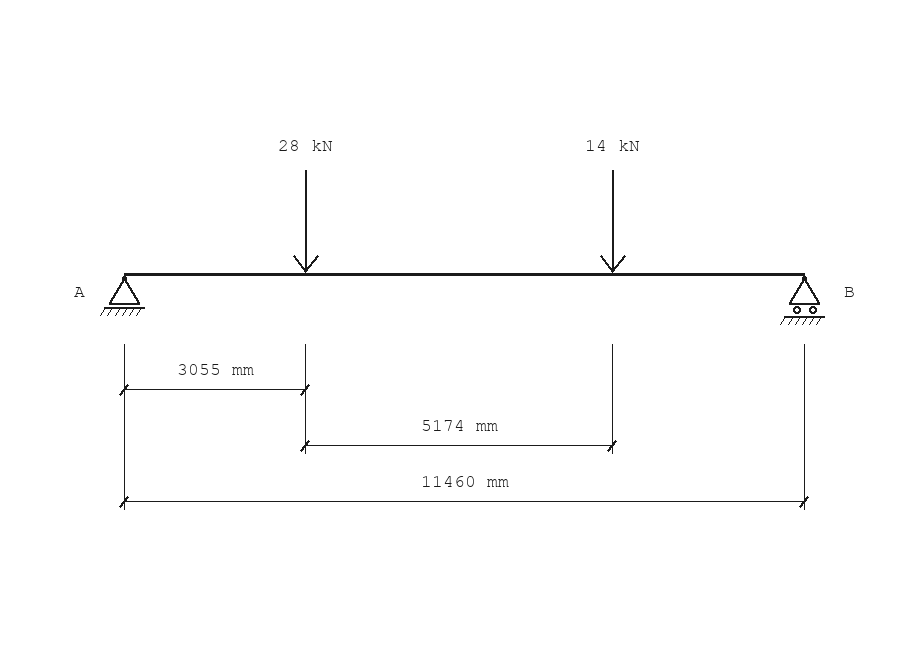pin_support: (100, 276, 145, 316)
point_load: (293, 170, 319, 273), (600, 170, 626, 273)
roller_support: (780, 276, 825, 325)
